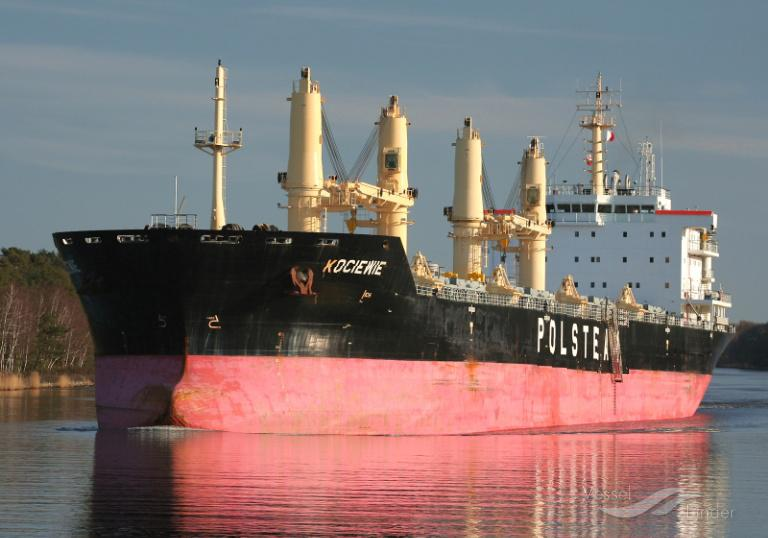OCR: (529, 308, 629, 374), (322, 252, 391, 288)
